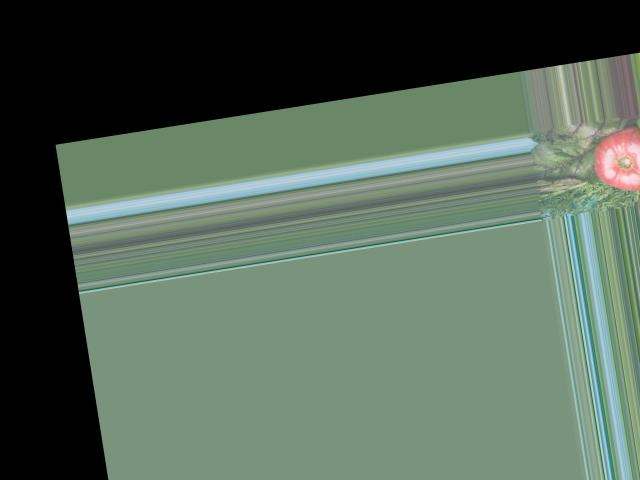tomato: (590, 121, 640, 196)
